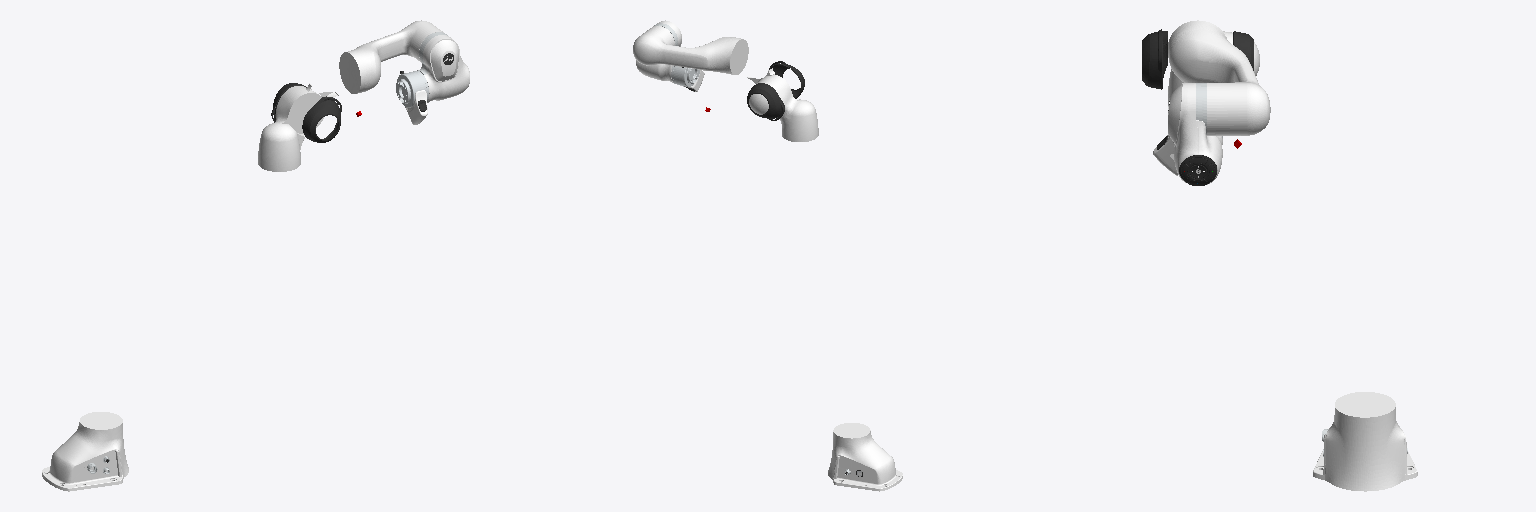
The robot description file, URDF, robot "panda":
<?xml version="1.0" ?>
<!-- =================================================================================== -->
<!-- |    This document was autogenerated by xacro from panda_arm.urdf.xacro           | -->
<!-- |    EDITING THIS FILE BY HAND IS NOT RECOMMENDED                                 | -->
<!-- =================================================================================== -->
<robot name="panda" xmlns:xacro="http://www.ros.org/wiki/xacro">
  <link name="panda_link0">
    <inertial>
      <!--      <origin
        xyz="-1.6981669084292E-15 0 -9.28958911114441E-07"
        rpy="0 0 0" />-->
      <origin rpy="0 0 0" xyz="0 0 0"/>
      <mass value="1.43675504024173"/>
      <inertia ixx="0" ixy="0" ixz="0" iyy="0" iyz="0" izz="0"/>
    </inertial>
    <visual>
      <geometry>
        <mesh filename="package://franka_description/meshes/visual/link0.dae"/>
      </geometry>
    </visual>
    <collision>
      <geometry>
        <mesh filename="package://franka_description/meshes/collision/link0.stl"/>
      </geometry>
    </collision>
  </link>
  <link name="panda_link1_r">
    <inertial>
      <!--      <origin
        xyz="-1.6981669084292E-15 0 -9.28958911114441E-07"
        rpy="0 0 0" />-->
      <origin rpy="0 0 0" xyz="0 0 0"/>
      <mass value="1.43675504024173"/>
      <inertia ixx="0" ixy="0" ixz="0" iyy="0" iyz="0" izz="0"/>
    </inertial>
    <visual>
      <geometry>
        <mesh filename="package://franka_description/meshes/visual/link1.dae"/>
      </geometry>
    </visual>
    <collision>
      <geometry>
        <mesh filename="package://franka_description/meshes/collision/link1.stl"/>
      </geometry>
    </collision>
  </link>
  <joint name="panda_joint1_r" type="revolute">
    <safety_controller k_position="100.0" k_velocity="40.0" soft_lower_limit="-2.8973" soft_upper_limit="2.8973"/>
    <origin rpy="0 0 0" xyz="0.35 -0.3 0.708"/>
    <parent link="panda_link0"/>
    <child link="panda_link1_r"/>
    <axis xyz="0 0 1"/>
    <limit effort="87" lower="-2.8973" upper="2.8973" velocity="2.1750"/>
  </joint>
  <link name="panda_link2_r">
    <inertial>
      <!--      <origin
        xyz="-1.6981669084292E-15 0 -9.28958911114441E-07"
        rpy="0 0 0" />-->
      <origin rpy="0 0 0" xyz="0 0 0"/>
      <mass value="1.43675504024173"/>
      <inertia ixx="0" ixy="0" ixz="0" iyy="0" iyz="0" izz="0"/>
    </inertial>
    <visual>
      <geometry>
        <mesh filename="package://franka_description/meshes/visual/link2.dae"/>
      </geometry>
    </visual>
    <collision>
      <geometry>
        <mesh filename="package://franka_description/meshes/collision/link2.stl"/>
      </geometry>
    </collision>
  </link>
  <joint name="panda_joint2_r" type="revolute">
    <safety_controller k_position="100.0" k_velocity="40.0" soft_lower_limit="-1.7628" soft_upper_limit="1.7628"/>
    <origin rpy="-1.57079632679 0 0" xyz="0 0 0"/>
    <parent link="panda_link1_r"/>
    <child link="panda_link2_r"/>
    <axis xyz="0 0 1"/>
    <limit effort="87" lower="-1.7628" upper="1.7628" velocity="2.1750"/>
  </joint>
  <link name="panda_link3_r">
    <inertial>
      <!--      <origin
        xyz="-1.6981669084292E-15 0 -9.28958911114441E-07"
        rpy="0 0 0" />-->
      <origin rpy="0 0 0" xyz="0 0 0"/>
      <mass value="1.43675504024173"/>
      <inertia ixx="0" ixy="0" ixz="0" iyy="0" iyz="0" izz="0"/>
    </inertial>
    <visual>
      <geometry>
        <mesh filename="package://franka_description/meshes/visual/link3.dae"/>
      </geometry>
    </visual>
    <collision>
      <geometry>
        <mesh filename="package://franka_description/meshes/collision/link3.stl"/>
      </geometry>
    </collision>
  </link>
  <joint name="panda_joint3_r" type="revolute">
    <safety_controller k_position="100.0" k_velocity="40.0" soft_lower_limit="-2.8973" soft_upper_limit="2.8973"/>
    <origin rpy="1.57079632679 0 0" xyz="0 -0.316 0"/>
    <parent link="panda_link2_r"/>
    <child link="panda_link3_r"/>
    <axis xyz="0 0 1"/>
    <limit effort="87" lower="-2.8973" upper="2.8973" velocity="2.1750"/>
  </joint>
  <link name="panda_link4_r">
    <inertial>
      <!--      <origin
        xyz="-1.6981669084292E-15 0 -9.28958911114441E-07"
        rpy="0 0 0" />-->
      <origin rpy="0 0 0" xyz="0 0 0"/>
      <mass value="1.43675504024173"/>
      <inertia ixx="0" ixy="0" ixz="0" iyy="0" iyz="0" izz="0"/>
    </inertial>
    <visual>
      <geometry>
        <mesh filename="package://franka_description/meshes/visual/link4.dae"/>
      </geometry>
    </visual>
    <collision>
      <geometry>
        <mesh filename="package://franka_description/meshes/collision/link4.stl"/>
      </geometry>
    </collision>
  </link>
  <joint name="panda_joint4_r" type="revolute">
    <safety_controller k_position="100.0" k_velocity="40.0" soft_lower_limit="-3.0718" soft_upper_limit="-0.0698"/>
    <origin rpy="1.57079632679 0 0" xyz="0.0825 0 0"/>
    <parent link="panda_link3_r"/>
    <child link="panda_link4_r"/>
    <axis xyz="0 0 1"/>
    <limit effort="87" lower="-3.0718" upper="-0.0698" velocity="2.1750"/>
  </joint>
  <link name="panda_link5_r">
    <inertial>
      <!--      <origin
        xyz="-1.6981669084292E-15 0 -9.28958911114441E-07"
        rpy="0 0 0" />-->
      <origin rpy="0 0 0" xyz="0 0 0"/>
      <mass value="1.43675504024173"/>
      <inertia ixx="0" ixy="0" ixz="0" iyy="0" iyz="0" izz="0"/>
    </inertial>
    <visual>
      <geometry>
        <mesh filename="package://franka_description/meshes/visual/link5.dae"/>
      </geometry>
    </visual>
    <collision>
      <geometry>
        <mesh filename="package://franka_description/meshes/collision/link5.stl"/>
      </geometry>
    </collision>
  </link>
  <joint name="panda_joint5_r" type="revolute">
    <safety_controller k_position="100.0" k_velocity="40.0" soft_lower_limit="-2.8973" soft_upper_limit="2.8973"/>
    <origin rpy="-1.57079632679 0 0" xyz="-0.0825 0.384 0"/>
    <parent link="panda_link4_r"/>
    <child link="panda_link5_r"/>
    <axis xyz="0 0 1"/>
    <limit effort="12" lower="-2.8973" upper="2.8973" velocity="2.6100"/>
  </joint>
  <link name="panda_link6_r">
    <inertial>
      <!--      <origin
        xyz="-1.6981669084292E-15 0 -9.28958911114441E-07"
        rpy="0 0 0" />-->
      <origin rpy="0 0 0" xyz="0 0 0"/>
      <mass value="1.43675504024173"/>
      <inertia ixx="0" ixy="0" ixz="0" iyy="0" iyz="0" izz="0"/>
    </inertial>
    <visual>
      <geometry>
        <mesh filename="package://franka_description/meshes/visual/link6.dae"/>
      </geometry>
    </visual>
    <collision>
      <geometry>
        <mesh filename="package://franka_description/meshes/collision/link6.stl"/>
      </geometry>
    </collision>
  </link>
  <joint name="panda_joint6_r" type="revolute">
    <safety_controller k_position="100.0" k_velocity="40.0" soft_lower_limit="-0.0175" soft_upper_limit="3.7525"/>
    <origin rpy="1.57079632679 0 0" xyz="0 0 0"/>
    <parent link="panda_link5_r"/>
    <child link="panda_link6_r"/>
    <axis xyz="0 0 1"/>
    <limit effort="12" lower="-0.0175" upper="3.7525" velocity="2.6100"/>
  </joint>
  <link name="panda_link7_r">
    <inertial>
      <!--      <origin
        xyz="-1.6981669084292E-15 0 -9.28958911114441E-07"
        rpy="0 0 0" />-->
      <origin rpy="0 0 0" xyz="0 0 0"/>
      <mass value="1.43675504024173"/>
      <inertia ixx="0" ixy="0" ixz="0" iyy="0" iyz="0" izz="0"/>
    </inertial>
    <visual>
      <geometry>
        <mesh filename="package://franka_description/meshes/visual/link7.dae"/>
      </geometry>
    </visual>
    <collision>
      <geometry>
        <mesh filename="package://franka_description/meshes/collision/link7.stl"/>
      </geometry>
    </collision>
  </link>
  <joint name="panda_joint7_r" type="revolute">
    <safety_controller k_position="100.0" k_velocity="40.0" soft_lower_limit="-2.8973" soft_upper_limit="2.8973"/>
    <origin rpy="1.57079632679 0 0" xyz="0.088 0 0"/>
    <parent link="panda_link6_r"/>
    <child link="panda_link7_r"/>
    <axis xyz="0 0 1"/>
    <limit effort="12" lower="-2.8973" upper="2.8973" velocity="2.6100"/>
  </joint>
  <link name="panda_link8_r">
    <visual>
      <origin xyz="0 0 0" rpy="0 0 0"/>
      <geometry>
        <box size="0.01 0.01 0.01" />
      </geometry>
      <material
        name="">
        <color
          rgba="0.8 0.0 0.0 1.0" />
      </material>
     </visual>

    <inertial>
      <origin xyz="0.0 0.0 0.0" rpy="0 0 0"/>
      <mass value="0.001"/>
      <inertia ixx="1.0e-06" ixy="0.0" ixz="0.0" iyy="1.0e-06" iyz="0.0" izz="1.0e-06" />
    </inertial>
  </link>


  <joint name="panda_joint8_r" type="fixed">
      <origin rpy="3.141592654 0 -0.785398163" xyz="0.07071 -0.07071 0.1923"/>
    <parent link="panda_link7_r"/>
    <child link="panda_link8_r"/>
    <axis xyz="0 0 0"/>
  </joint>
</robot>

--- Facts derived from the render (not from the file) ---
3 views of the same robot in one strip: view 1: azimuth 30°, elevation 25°; view 2: azimuth 150°, elevation 25°; view 3: azimuth 270°, elevation 25° (orthographic).
Robot: panda — 9 links, 8 joints (7 revolute, 1 fixed); root link panda_link0; default pose: all joints at 0 but 1 set to mid-range because 0 is outside their limits (panda_joint4_r = -1.57).
Visible links, largest first — view 1: panda_link0, panda_link3_r, panda_link5_r, panda_link6_r, panda_link7_r, panda_link4_r; view 2: panda_link0, panda_link5_r, panda_link3_r, panda_link6_r, panda_link7_r; view 3: panda_link0, panda_link5_r, panda_link6_r, panda_link4_r, panda_link3_r, panda_link7_r.
Boxes of the visible links, left/top/right/bottom form: panda_link0: left=42, top=412, right=128, bottom=491; panda_link3_r: left=258, top=83, right=323, bottom=171; panda_link5_r: left=339, top=20, right=443, bottom=93; panda_link6_r: left=417, top=32, right=469, bottom=102; panda_link7_r: left=396, top=71, right=428, bottom=124; panda_link4_r: left=302, top=83, right=341, bottom=142; panda_link0: left=828, top=423, right=902, bottom=491; panda_link5_r: left=633, top=26, right=748, bottom=74; panda_link3_r: left=747, top=74, right=818, bottom=141; panda_link6_r: left=636, top=20, right=681, bottom=82; panda_link7_r: left=671, top=66, right=704, bottom=91; panda_link0: left=1313, top=392, right=1417, bottom=491; panda_link5_r: left=1168, top=20, right=1270, bottom=135; panda_link6_r: left=1168, top=83, right=1222, bottom=185; panda_link4_r: left=1142, top=29, right=1167, bottom=89; panda_link3_r: left=1168, top=31, right=1259, bottom=104; panda_link7_r: left=1153, top=135, right=1222, bottom=175.
Bounding box of the posed robot: 1.05 × 0.4955 × 1.16 m (x, y, z).
Meshes: 8 distinct files referenced, 6 mesh visuals loaded (6 Collada DAE); not drawn: 2 (reference not matched to a file when rendering).